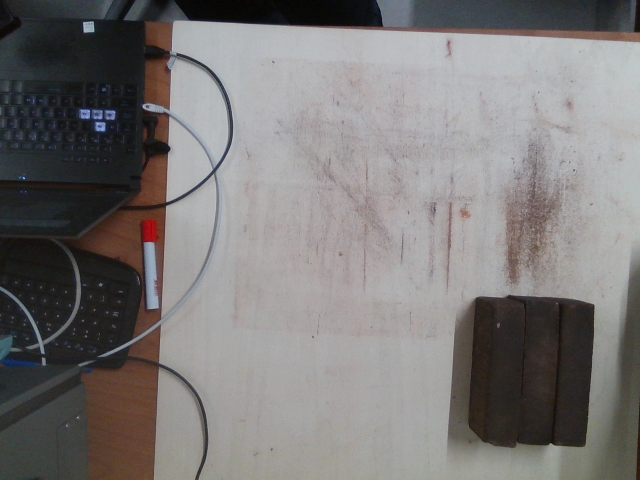brick-side: (555, 307, 595, 448), (486, 306, 526, 447), (520, 303, 560, 444)
